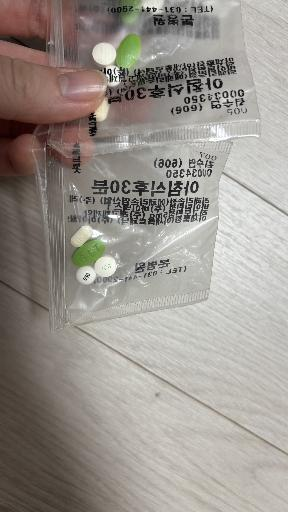Acecool: (92, 42, 116, 67), (94, 256, 117, 277)
BI-Tilin: (72, 239, 105, 267), (116, 34, 141, 68)
Lebamotin: (71, 225, 92, 247), (94, 98, 109, 123)
Leperisone: (102, 65, 121, 88), (76, 266, 96, 285)
vinyl: (37, 142, 231, 330)
